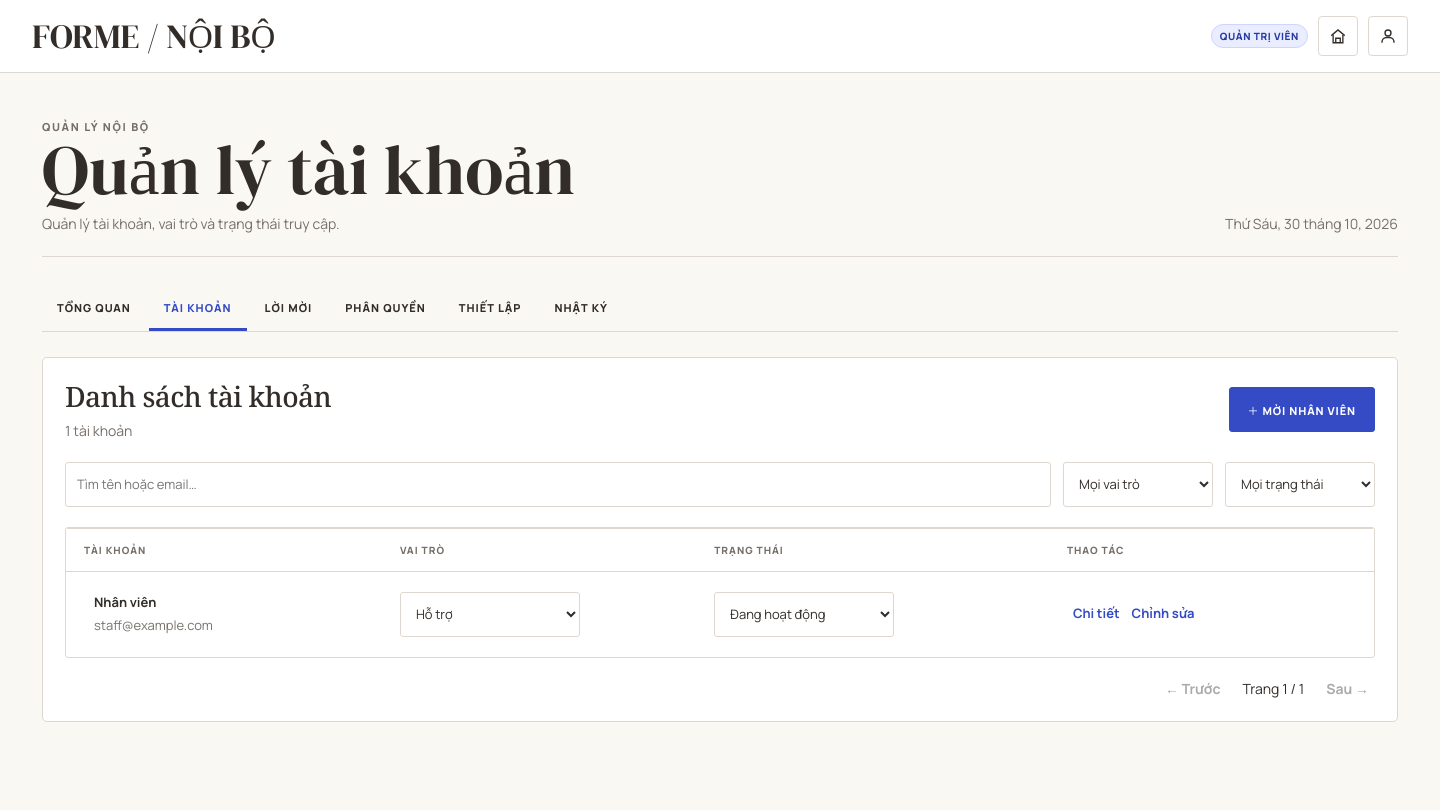
Test: requires confirmation before changing a staff role
Select "Nhân viên kho" in the dropdown named "Vai trò của Nhân viên": {"x": 490, "y": 614} [400,592,580,637]
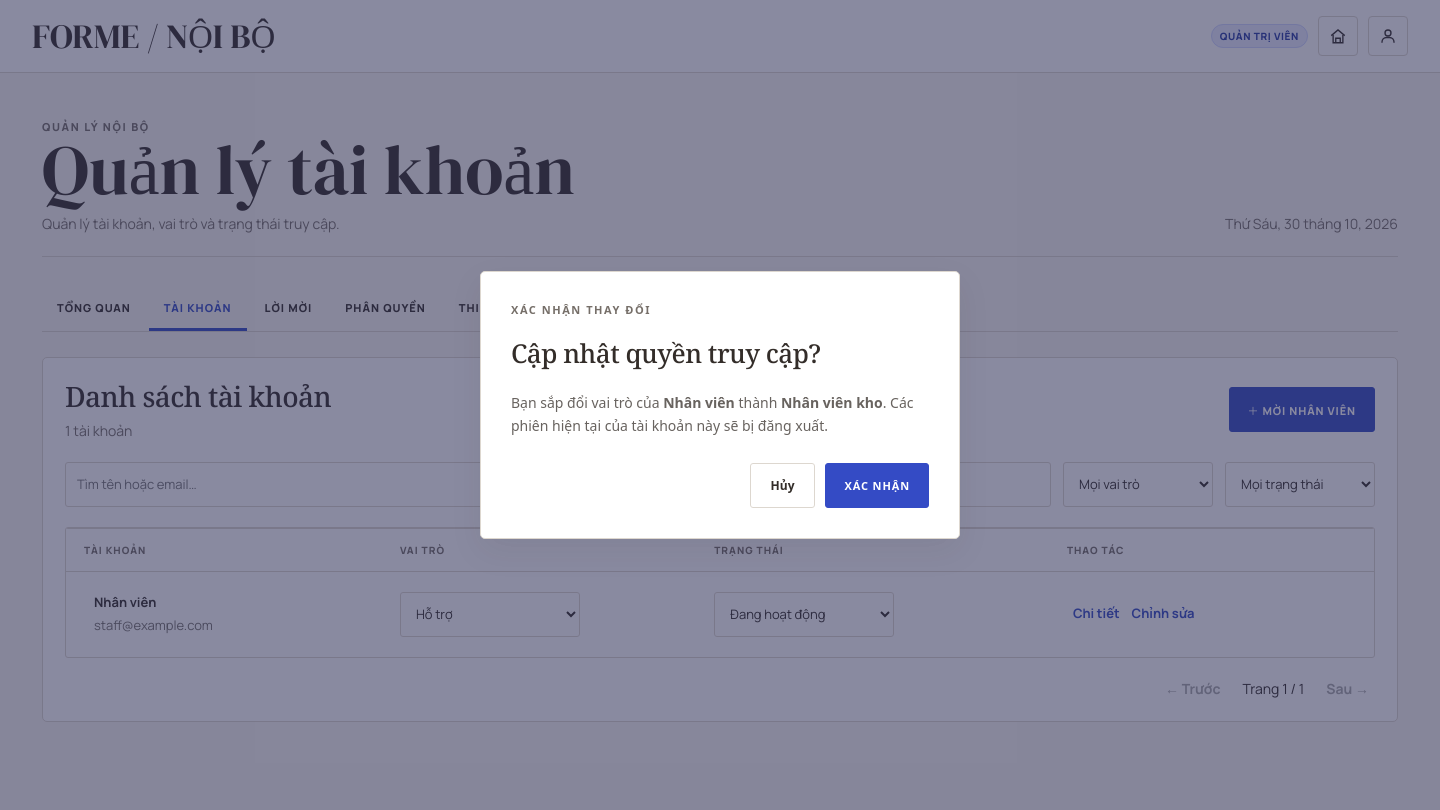
expect the text "Các phiên hiện tại" is shown: met, box [511,393,914,435]
Click the button "Hủy": {"x": 783, "y": 486} [750,463,816,508]
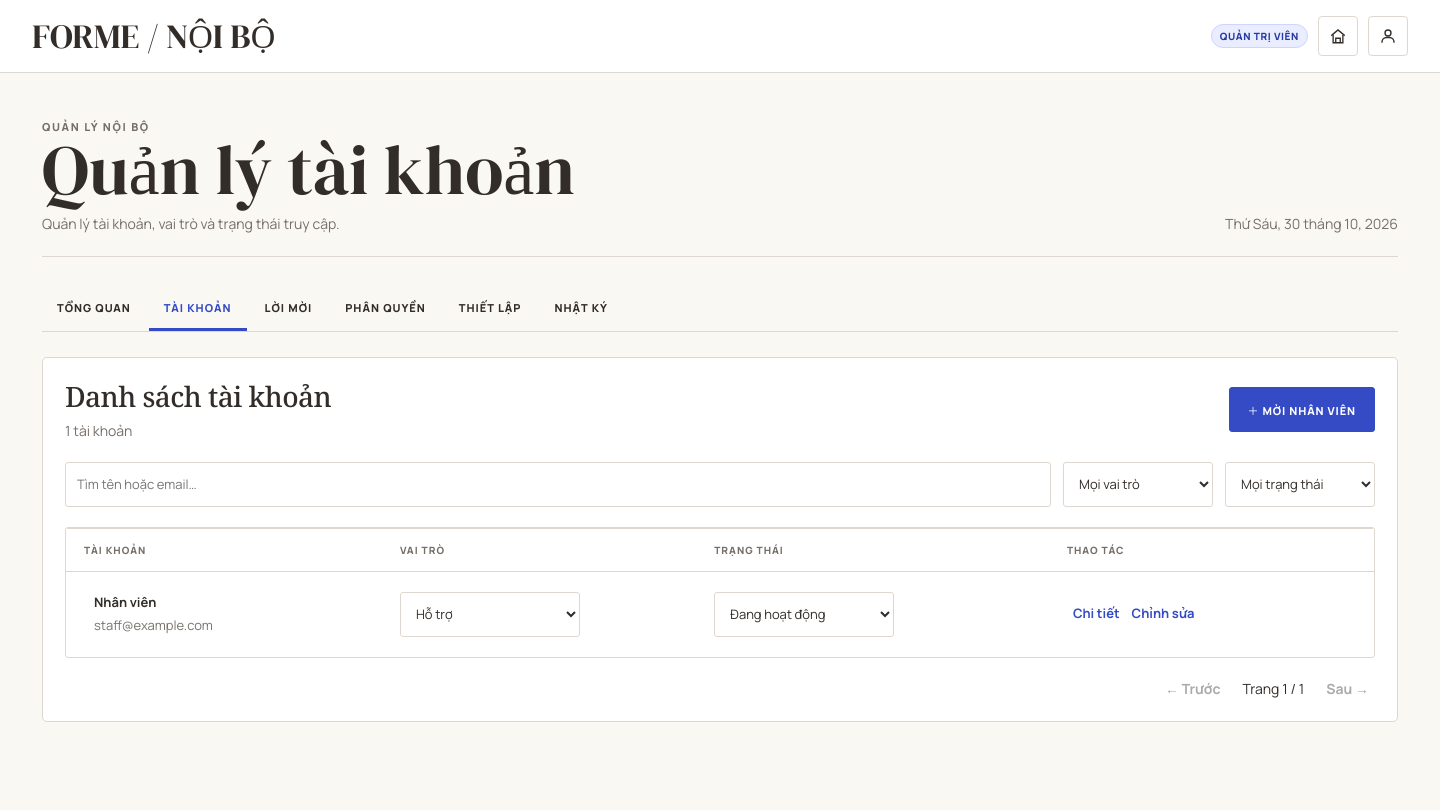
Select "Nhân viên kho" in the dropdown named "Vai trò của Nhân viên": {"x": 490, "y": 614} [400,592,580,637]
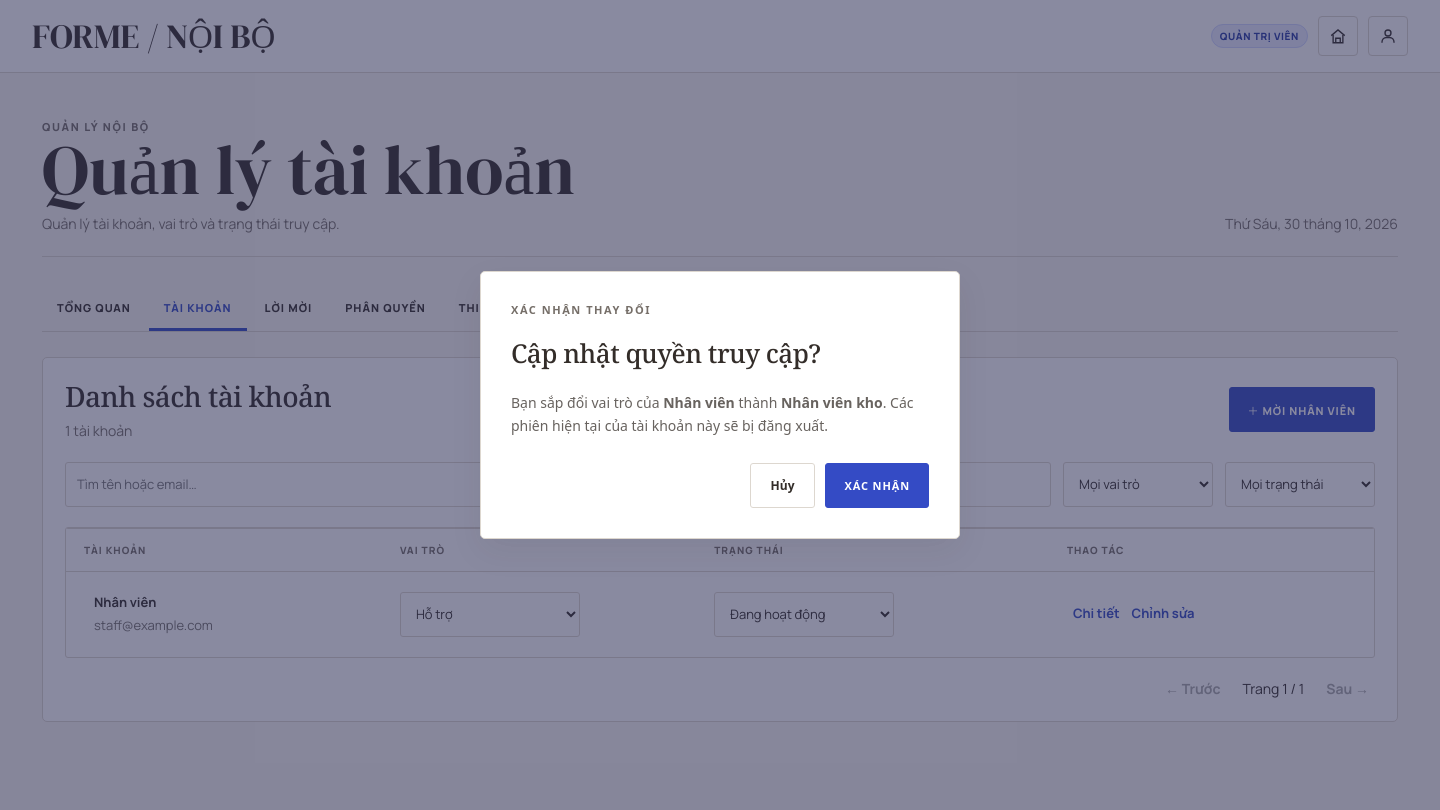
Click the button "Xác nhận": {"x": 877, "y": 486} [826,463,929,508]
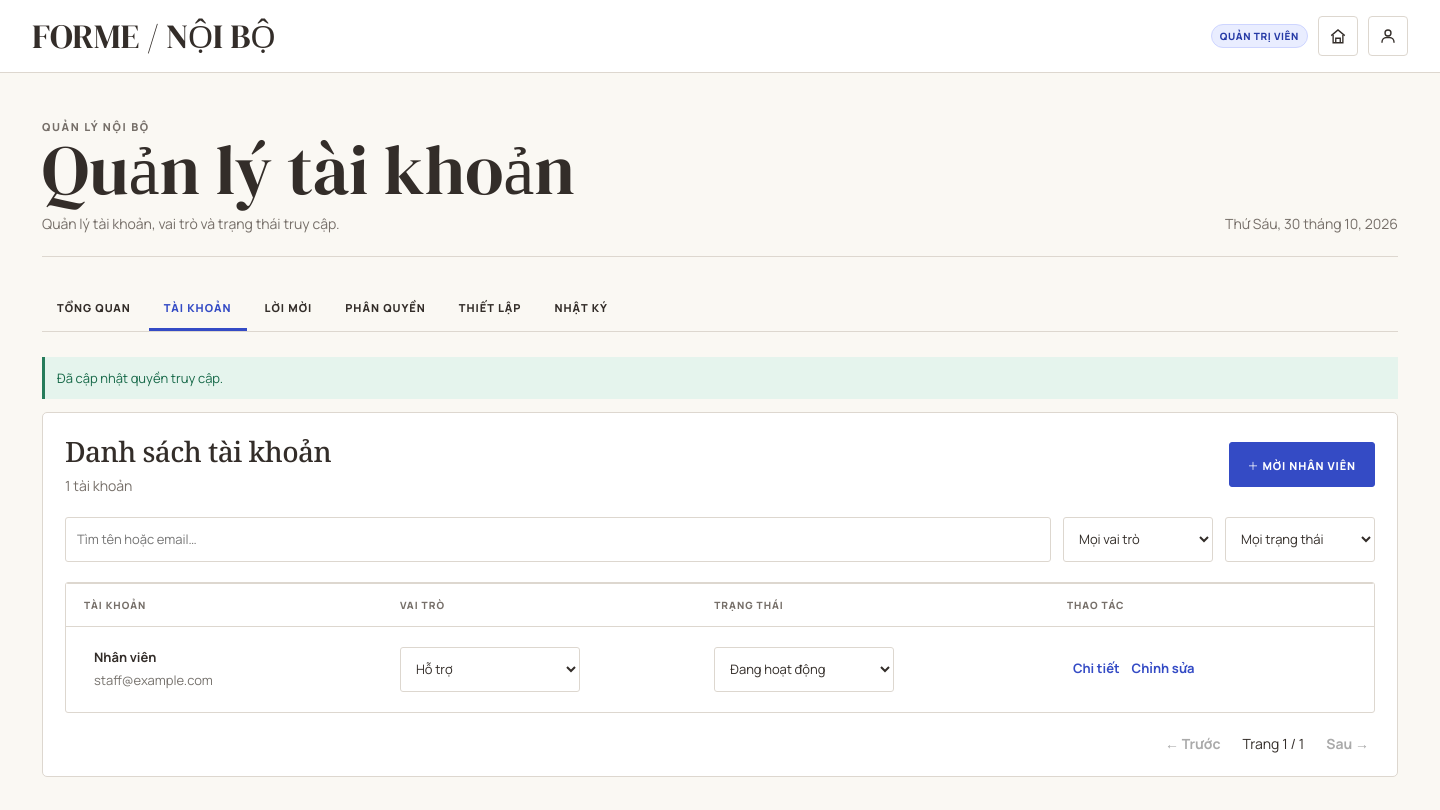
expect the message reads "Đã cập nhật quyền truy cập.": met, box [57,369,223,387]
